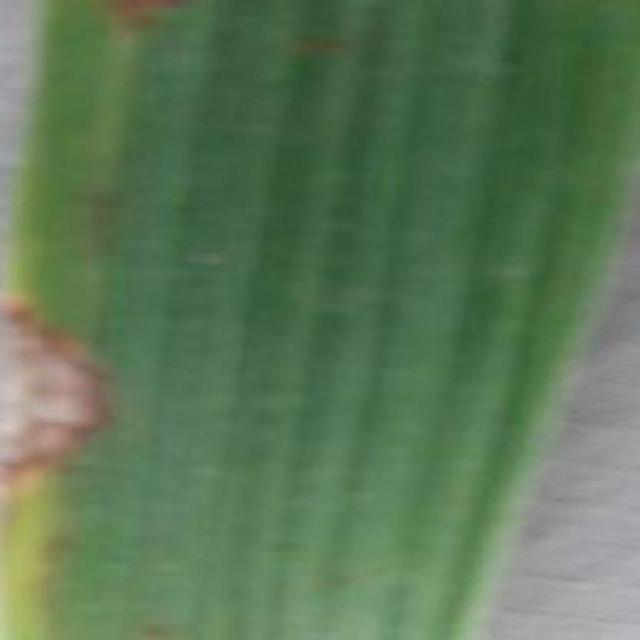Bacterial_Leaf_Blight: (0, 271, 142, 518), (34, 0, 241, 43)
